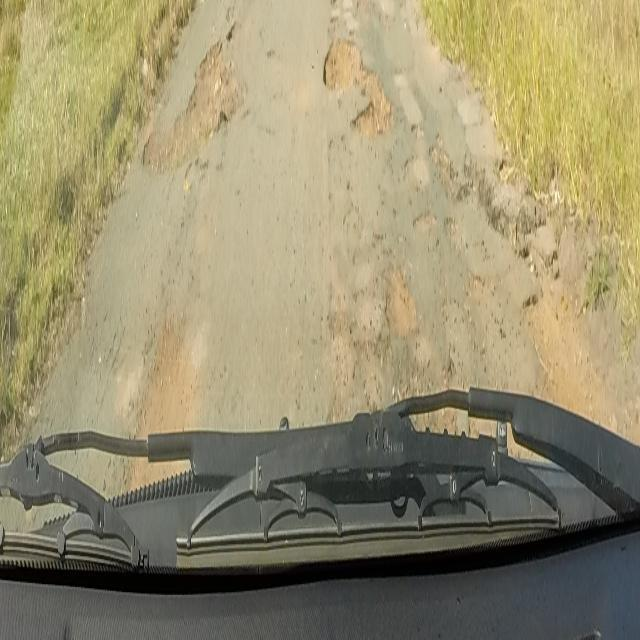pothole: (140, 29, 242, 183), (506, 199, 559, 340), (323, 32, 392, 138), (382, 258, 418, 346)
